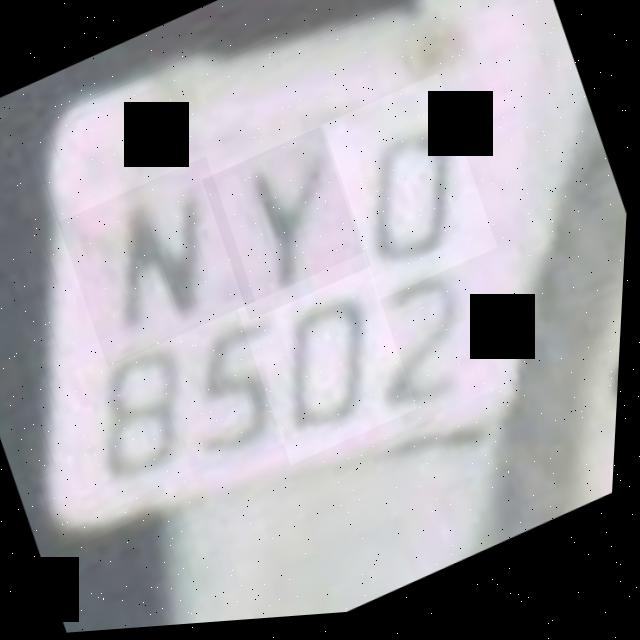0: (235, 255, 429, 474)
2: (331, 243, 520, 451)
5: (147, 293, 323, 486)
8: (51, 308, 234, 516)
N: (55, 156, 265, 373)
O: (314, 76, 508, 310)
X: (216, 136, 373, 317)
Y: (198, 128, 380, 328)
